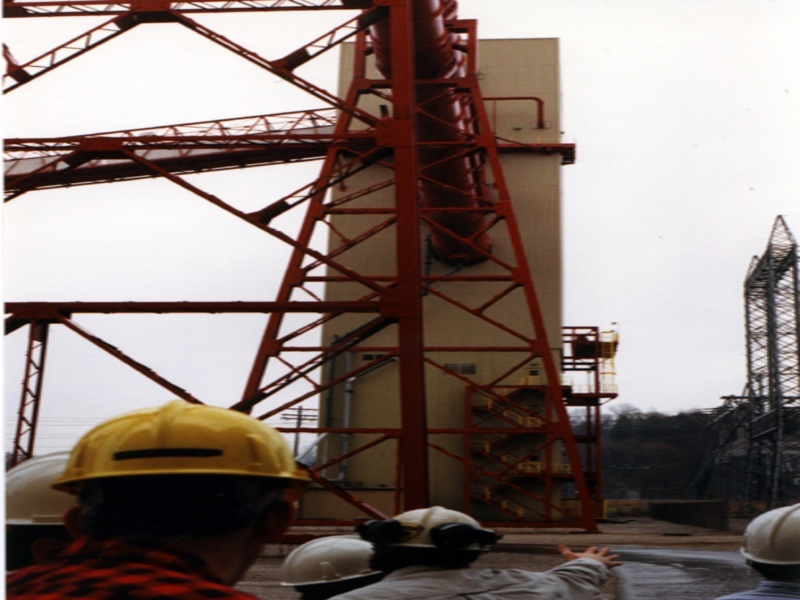Baret: (50, 406, 314, 504)
